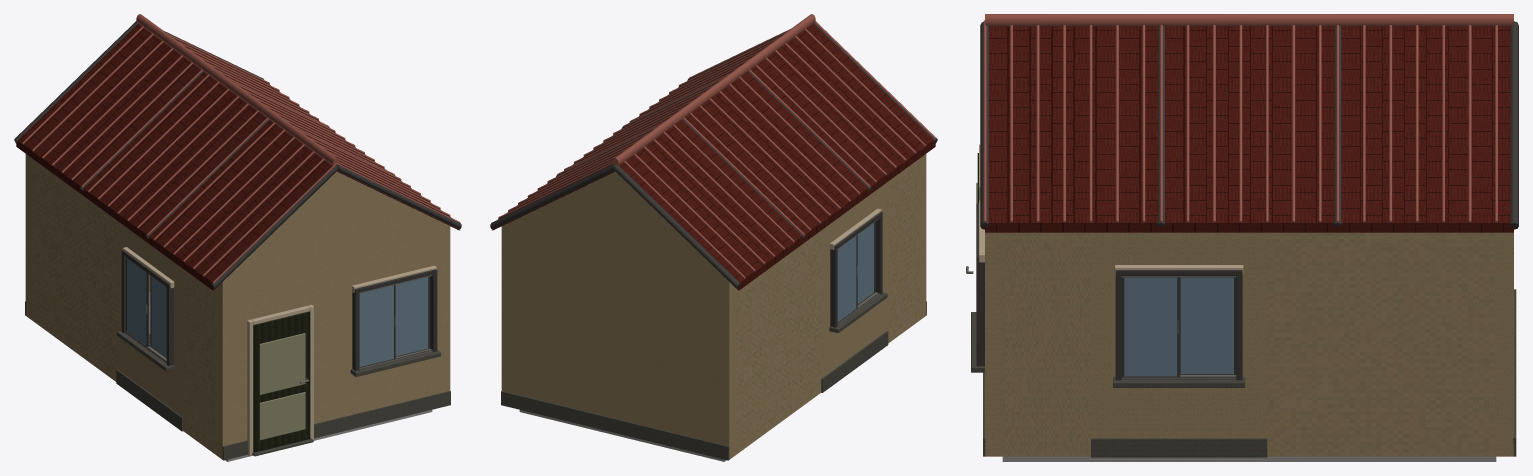
Rendered from MS_RR_D01_StudioUnit.glb.
3 views of the same model, side by side, from view 1: azimuth 30°, elevation 25°; view 2: azimuth 150°, elevation 25°; view 3: azimuth 270°, elevation 25° (orthographic). The views are drawn at different scales.
Parts seen in each view (by area): view 1: StaticBatch32, StaticBatch2, StaticBatch23, Plaster_005, StaticBatch42, RaisedPanel, StaticBatch3, StaticBatch6, Leaf_001, Glass_001, Glass, Frame_004 (+7 smaller); view 2: StaticBatch2, StaticBatch32, StaticBatch23, StaticBatch42, StaticBatch6, StaticBatch4, Frame2, StaticBatch3, Glass_0012, Plaster_005, Glass2, StaticBatch5; view 3: StaticBatch2, StaticBatch32, StaticBatch23, Glass_0013, StaticBatch3, StaticBatch6, Glass3, StaticBatch5, Frame3, Frame, StaticBatch, SashFrame_0043 (+1 smaller).
Boxes of the visible parts, box(x1,y1,x2,y2) form: StaticBatch32: box(16, 23, 459, 290); StaticBatch2: box(25, 154, 450, 454); StaticBatch23: box(22, 14, 460, 282); Plaster_005: box(216, 253, 336, 459); StaticBatch42: box(223, 171, 449, 281); RaisedPanel: box(259, 333, 305, 440); StaticBatch3: box(116, 331, 450, 432); StaticBatch6: box(14, 21, 461, 288); Leaf_001: box(253, 311, 310, 451); Glass_001: box(359, 285, 393, 366); Glass: box(395, 277, 428, 356); Frame_004: box(247, 304, 313, 456); StaticBatch2: box(501, 159, 919, 459); StaticBatch32: box(492, 23, 935, 290); StaticBatch23: box(498, 14, 935, 278); StaticBatch42: box(502, 171, 728, 281); StaticBatch6: box(490, 21, 937, 288); StaticBatch4: box(501, 391, 729, 460); Frame2: box(830, 211, 882, 327); StaticBatch3: box(821, 292, 888, 392); Glass_0012: box(837, 236, 856, 321); Plaster_005: box(919, 154, 926, 320); Glass2: box(857, 223, 873, 303); StaticBatch5: box(519, 410, 726, 461); StaticBatch2: box(985, 232, 1513, 456); StaticBatch32: box(985, 26, 1513, 232); StaticBatch23: box(983, 14, 1513, 222); Glass_0013: box(1124, 277, 1177, 376); StaticBatch3: box(971, 312, 1267, 457); StaticBatch6: box(980, 21, 1518, 229); Glass3: box(1180, 277, 1233, 374); StaticBatch5: box(1002, 456, 1496, 461); Frame3: box(1115, 270, 1242, 380); Frame: box(976, 203, 984, 366); StaticBatch: box(979, 200, 1243, 274); SashFrame_0043: box(1121, 277, 1179, 376).
Size of the model in its own units: 4.36 by 4.77 by 6.27.
Materials: 21 (6 with a texture image).
